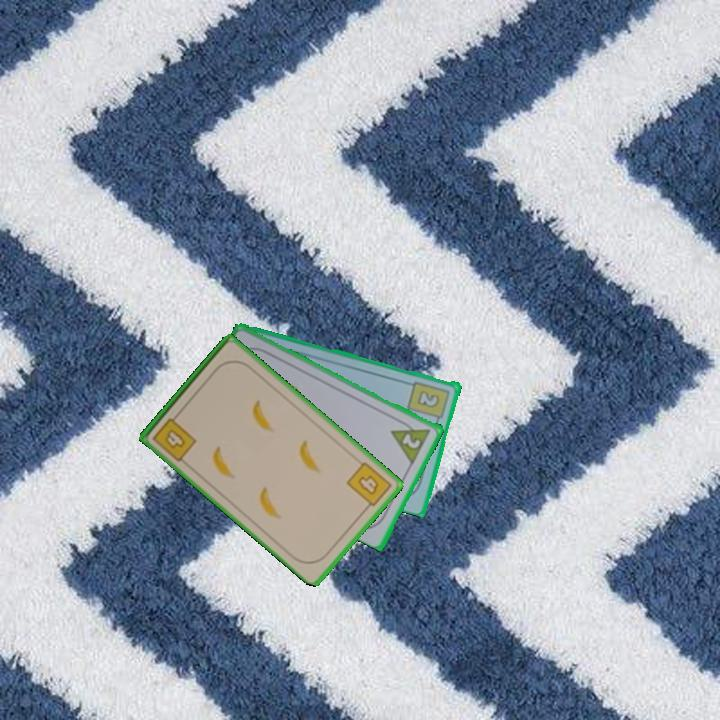2b: (405, 377, 453, 427)
2p: (399, 430, 424, 451)
4b: (343, 458, 395, 514), (149, 409, 200, 465)
